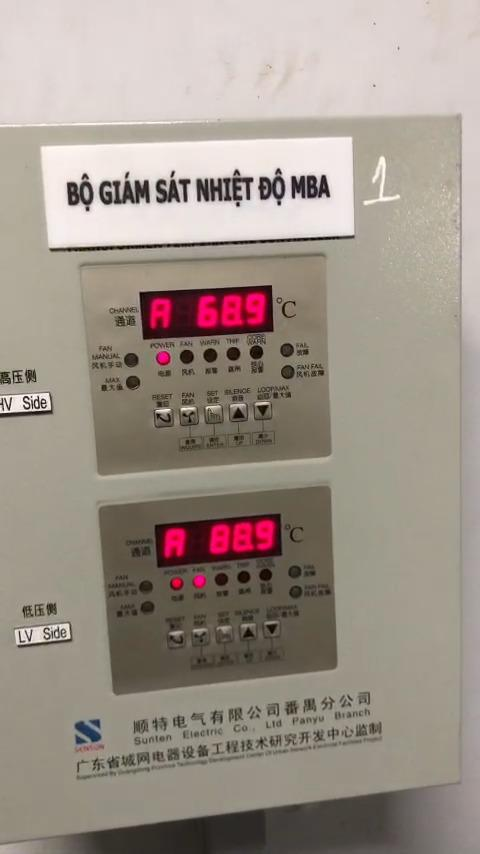led: (249, 345, 264, 359), (226, 346, 241, 360), (124, 353, 139, 367), (280, 343, 294, 357), (180, 350, 194, 364), (156, 351, 170, 365), (126, 375, 140, 389), (288, 565, 302, 579), (237, 570, 251, 584), (193, 575, 207, 589), (139, 580, 153, 594), (289, 585, 303, 599), (204, 348, 217, 362), (281, 365, 294, 379), (215, 573, 229, 586), (170, 577, 183, 591), (141, 601, 155, 614), (259, 569, 272, 582)
